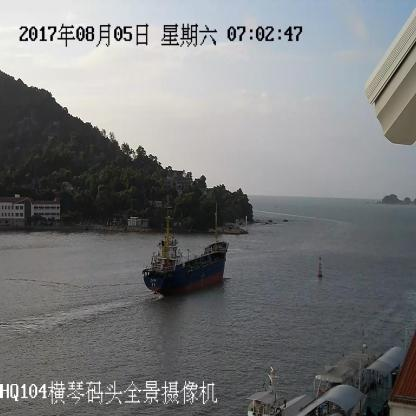Bulk Carrier: (142, 204, 229, 296)
